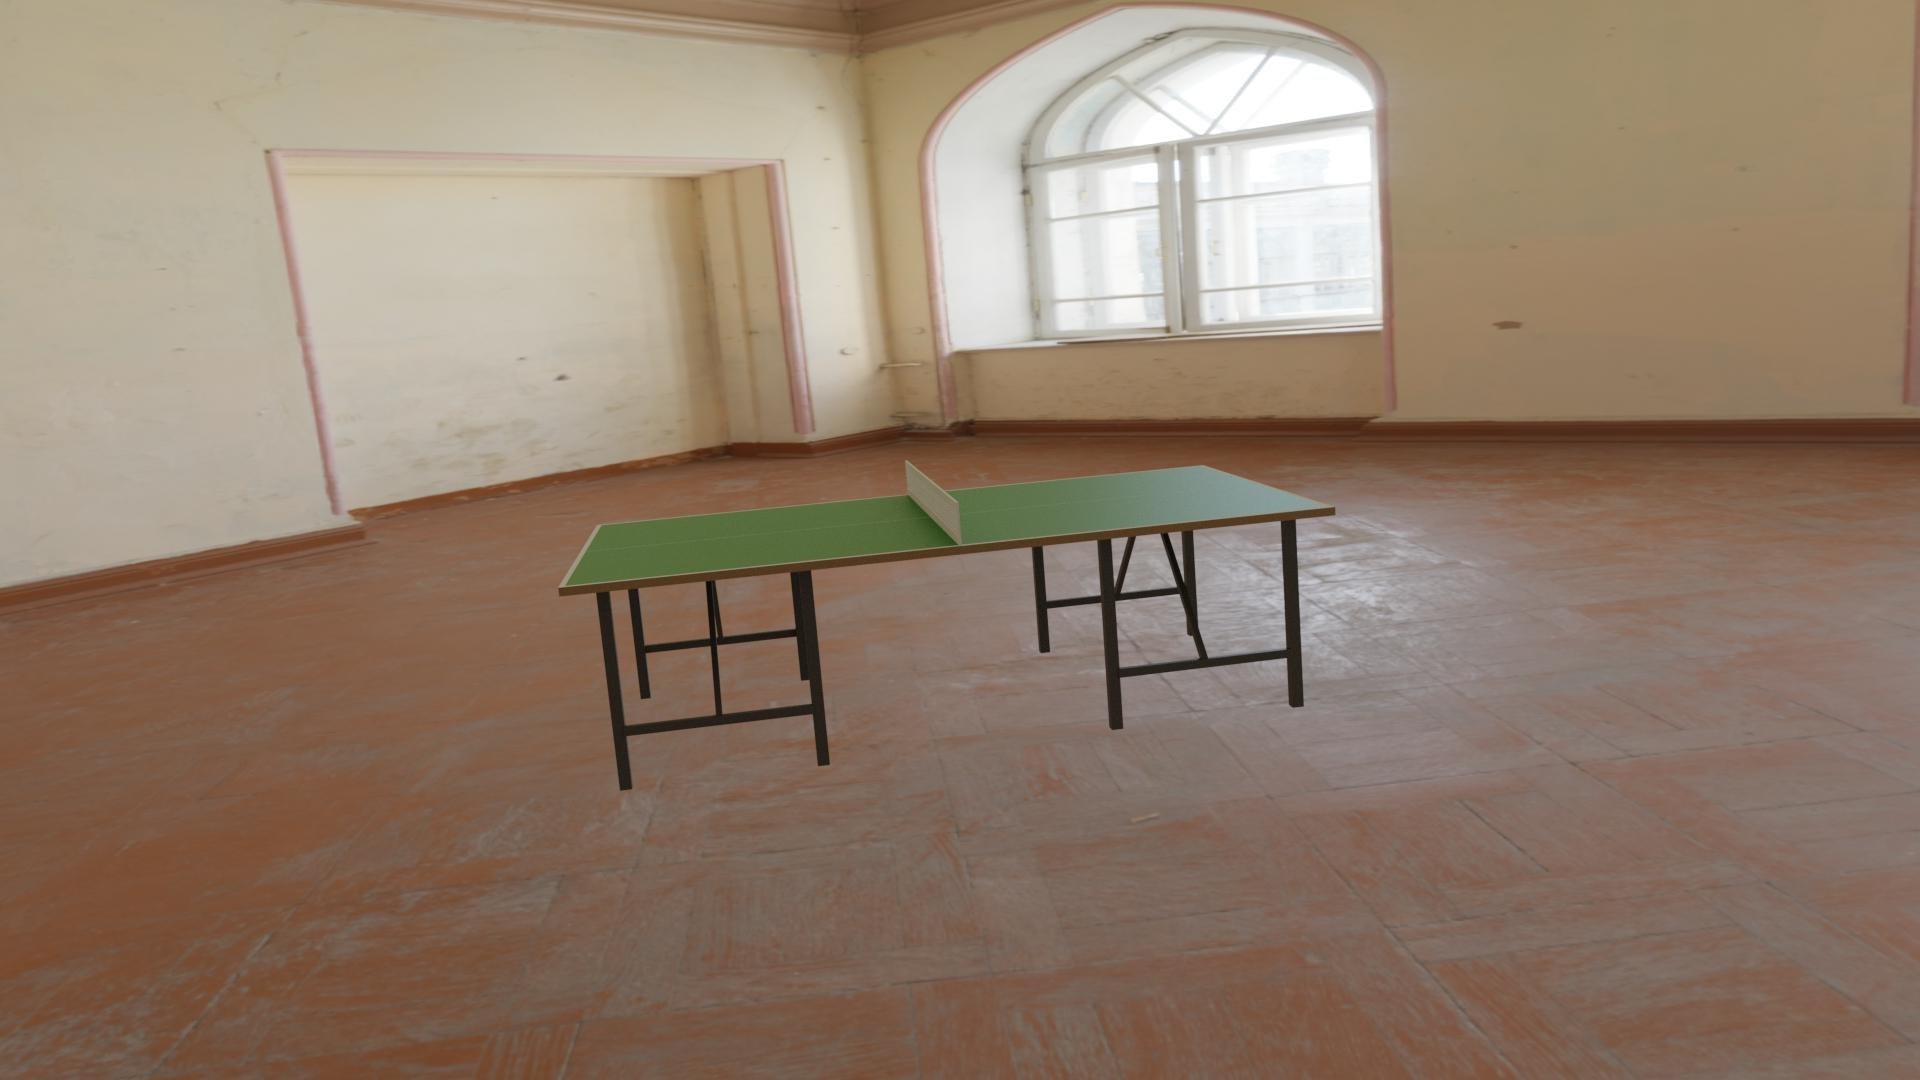table: (564, 465, 1328, 585)
